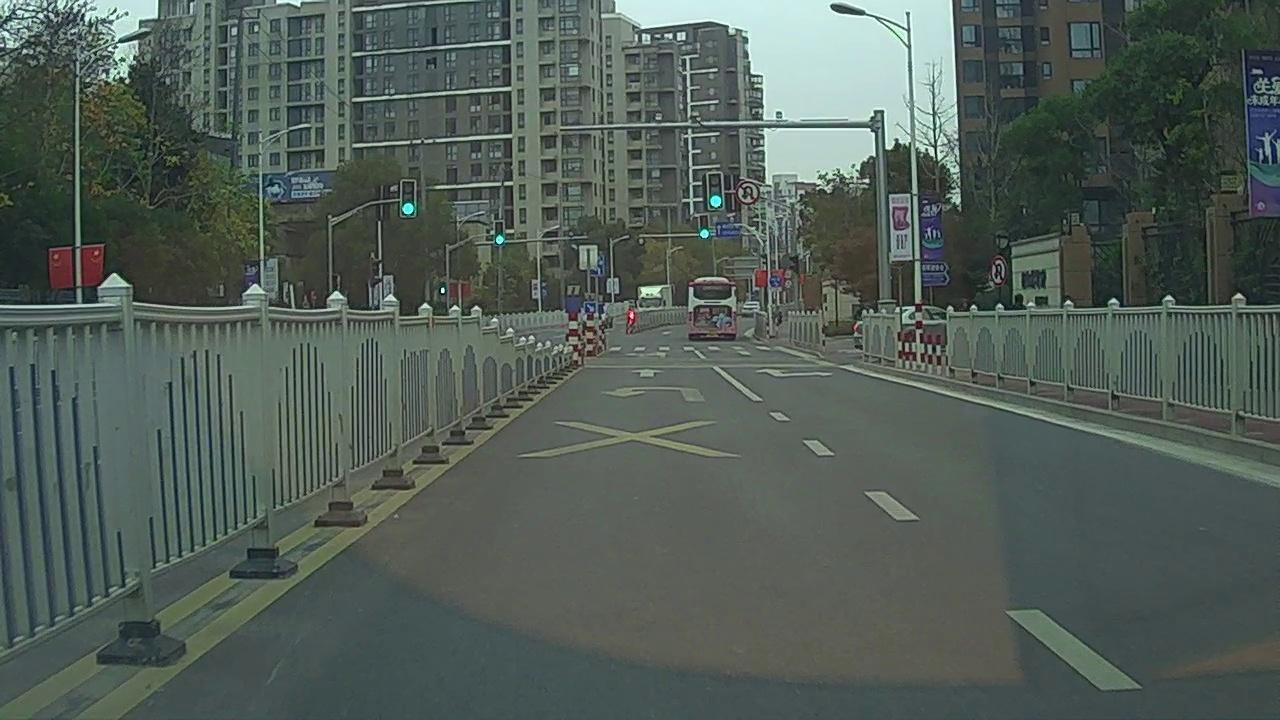traffic_light: (400, 181, 414, 219), (707, 173, 722, 208), (496, 222, 505, 247), (700, 217, 708, 239)
